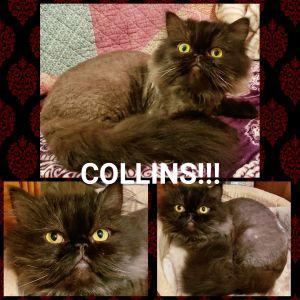persian: (153, 9, 254, 104)
